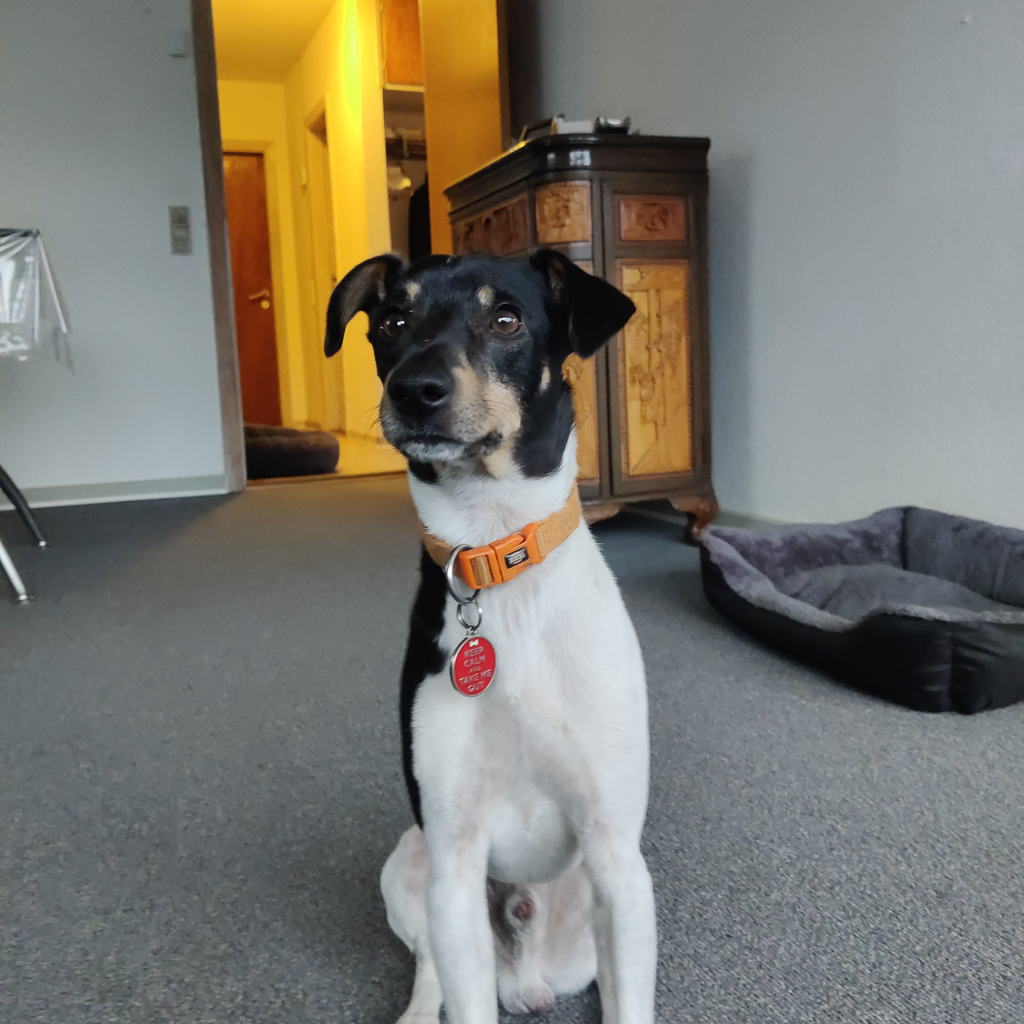Dog: (266, 215, 728, 1024)
